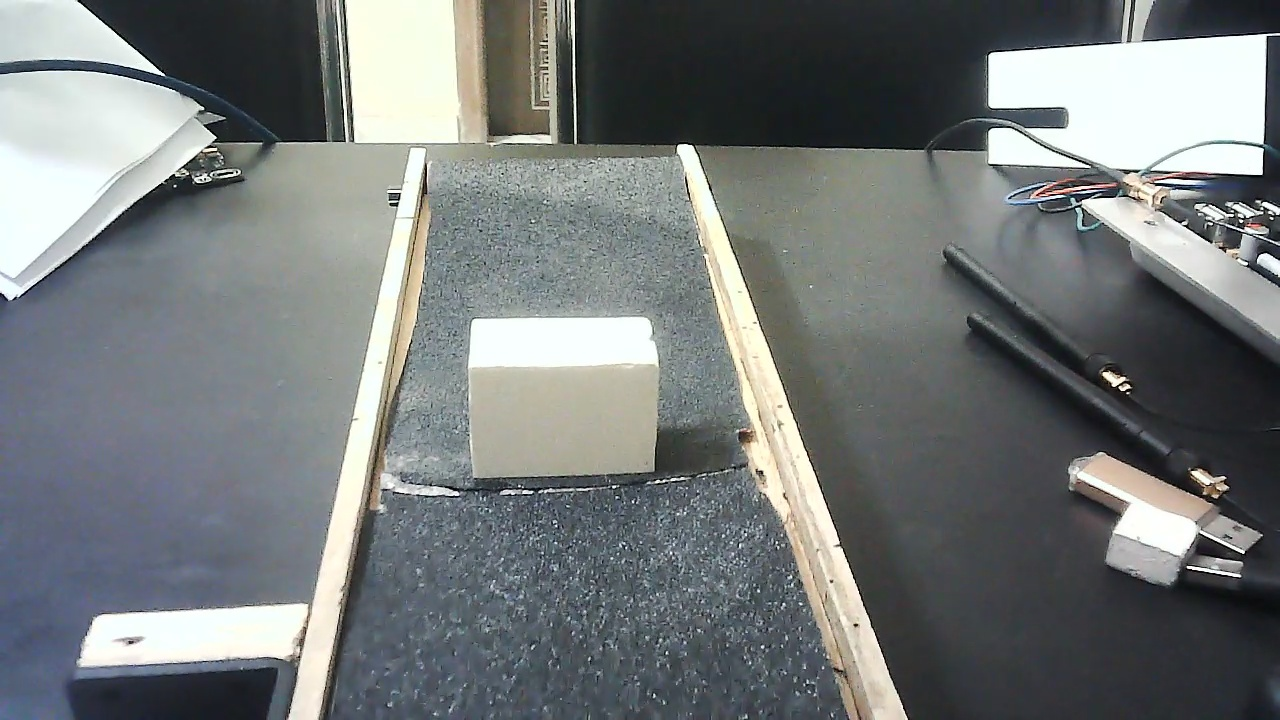BIG: (467, 298, 659, 490)
